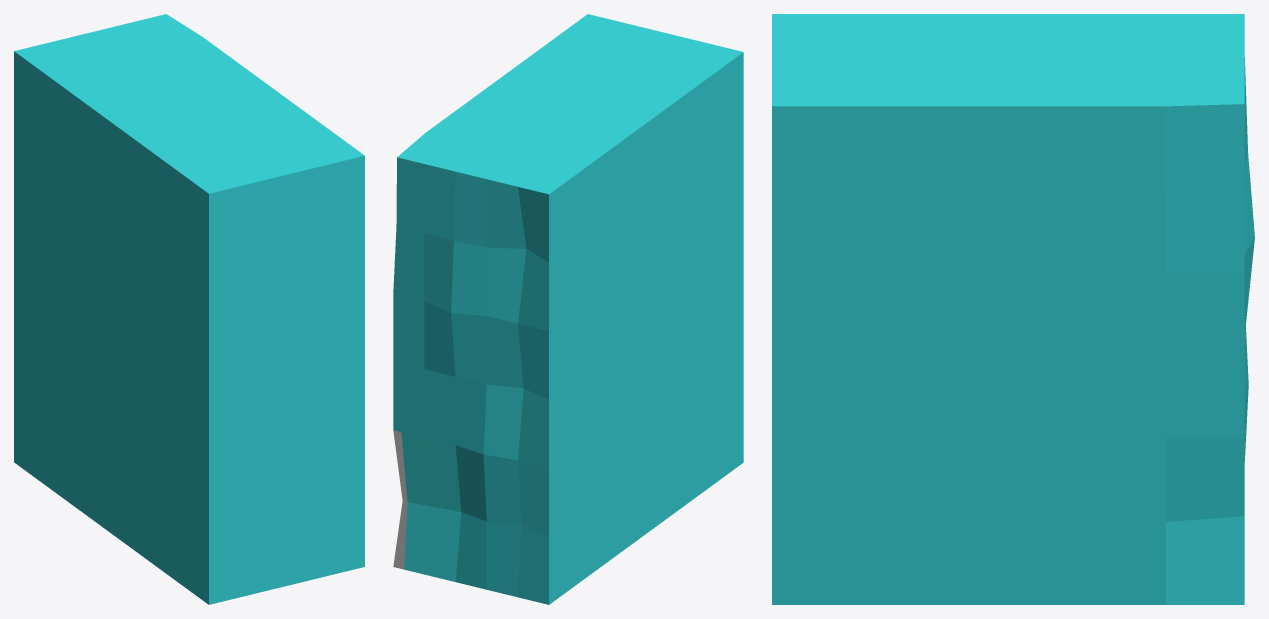
The model's file is Bar_Wood.fbx.
3 views of the same model, side by side, from view 1: azimuth 30°, elevation 25°; view 2: azimuth 150°, elevation 25°; view 3: azimuth 270°, elevation 25° (orthographic). The views are drawn at different scales.
Parts seen in each view (by area): view 1: Bar_Wood; view 2: Bar_Wood; view 3: Bar_Wood.
Part boxes in pixels (x1,y1,x2,y2): Bar_Wood: [14, 14, 364, 604]; Bar_Wood: [393, 14, 743, 604]; Bar_Wood: [772, 14, 1254, 604].
Bounding box in the file's own units: 119 × 300 × 264.
